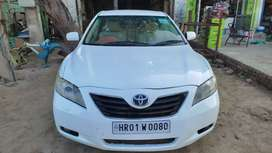HR01W0080: (112, 120, 171, 135)
